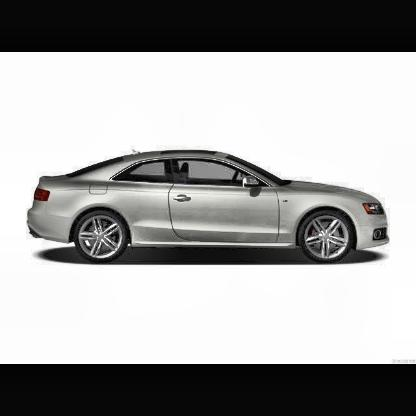Audi S5 Coupe 2012: (28, 149, 390, 264)
